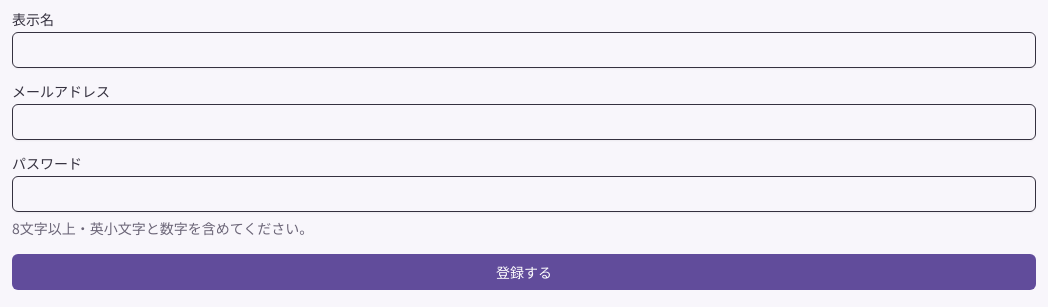
SignupForm › メールアドレス欄への貼り付けを妨げない（A3）
Click the field labelled "メールアドレス" at (524,122), box left=12, top=104, right=1036, bottom=140
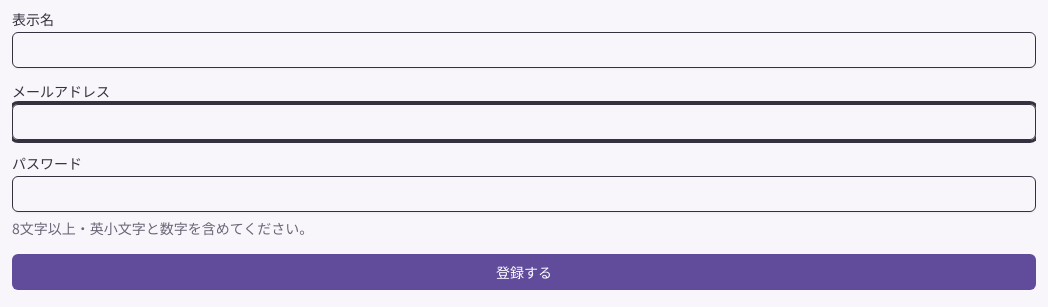
Type keys "pasted@example.com"
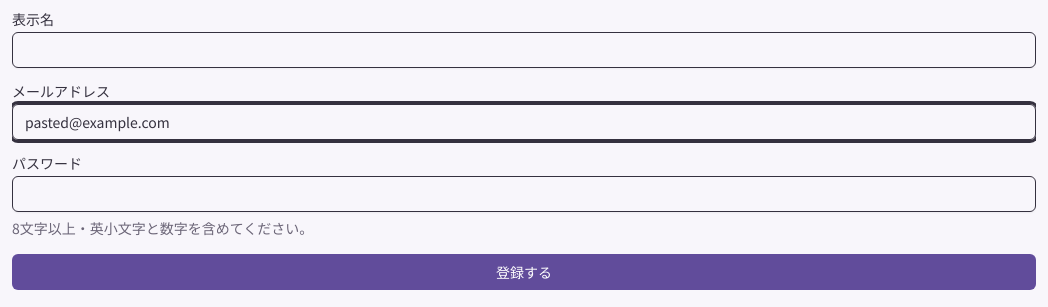
Result: the field labelled "メールアドレス" holds "pasted@example.com" at left=12, top=104, right=1036, bottom=140
